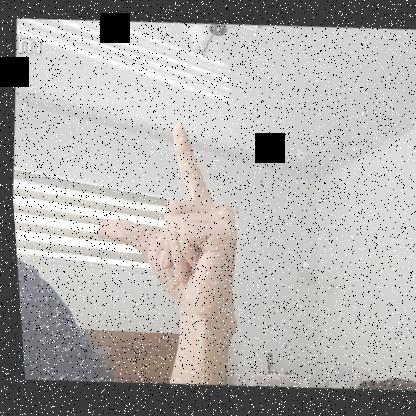L: (79, 113, 249, 326)
